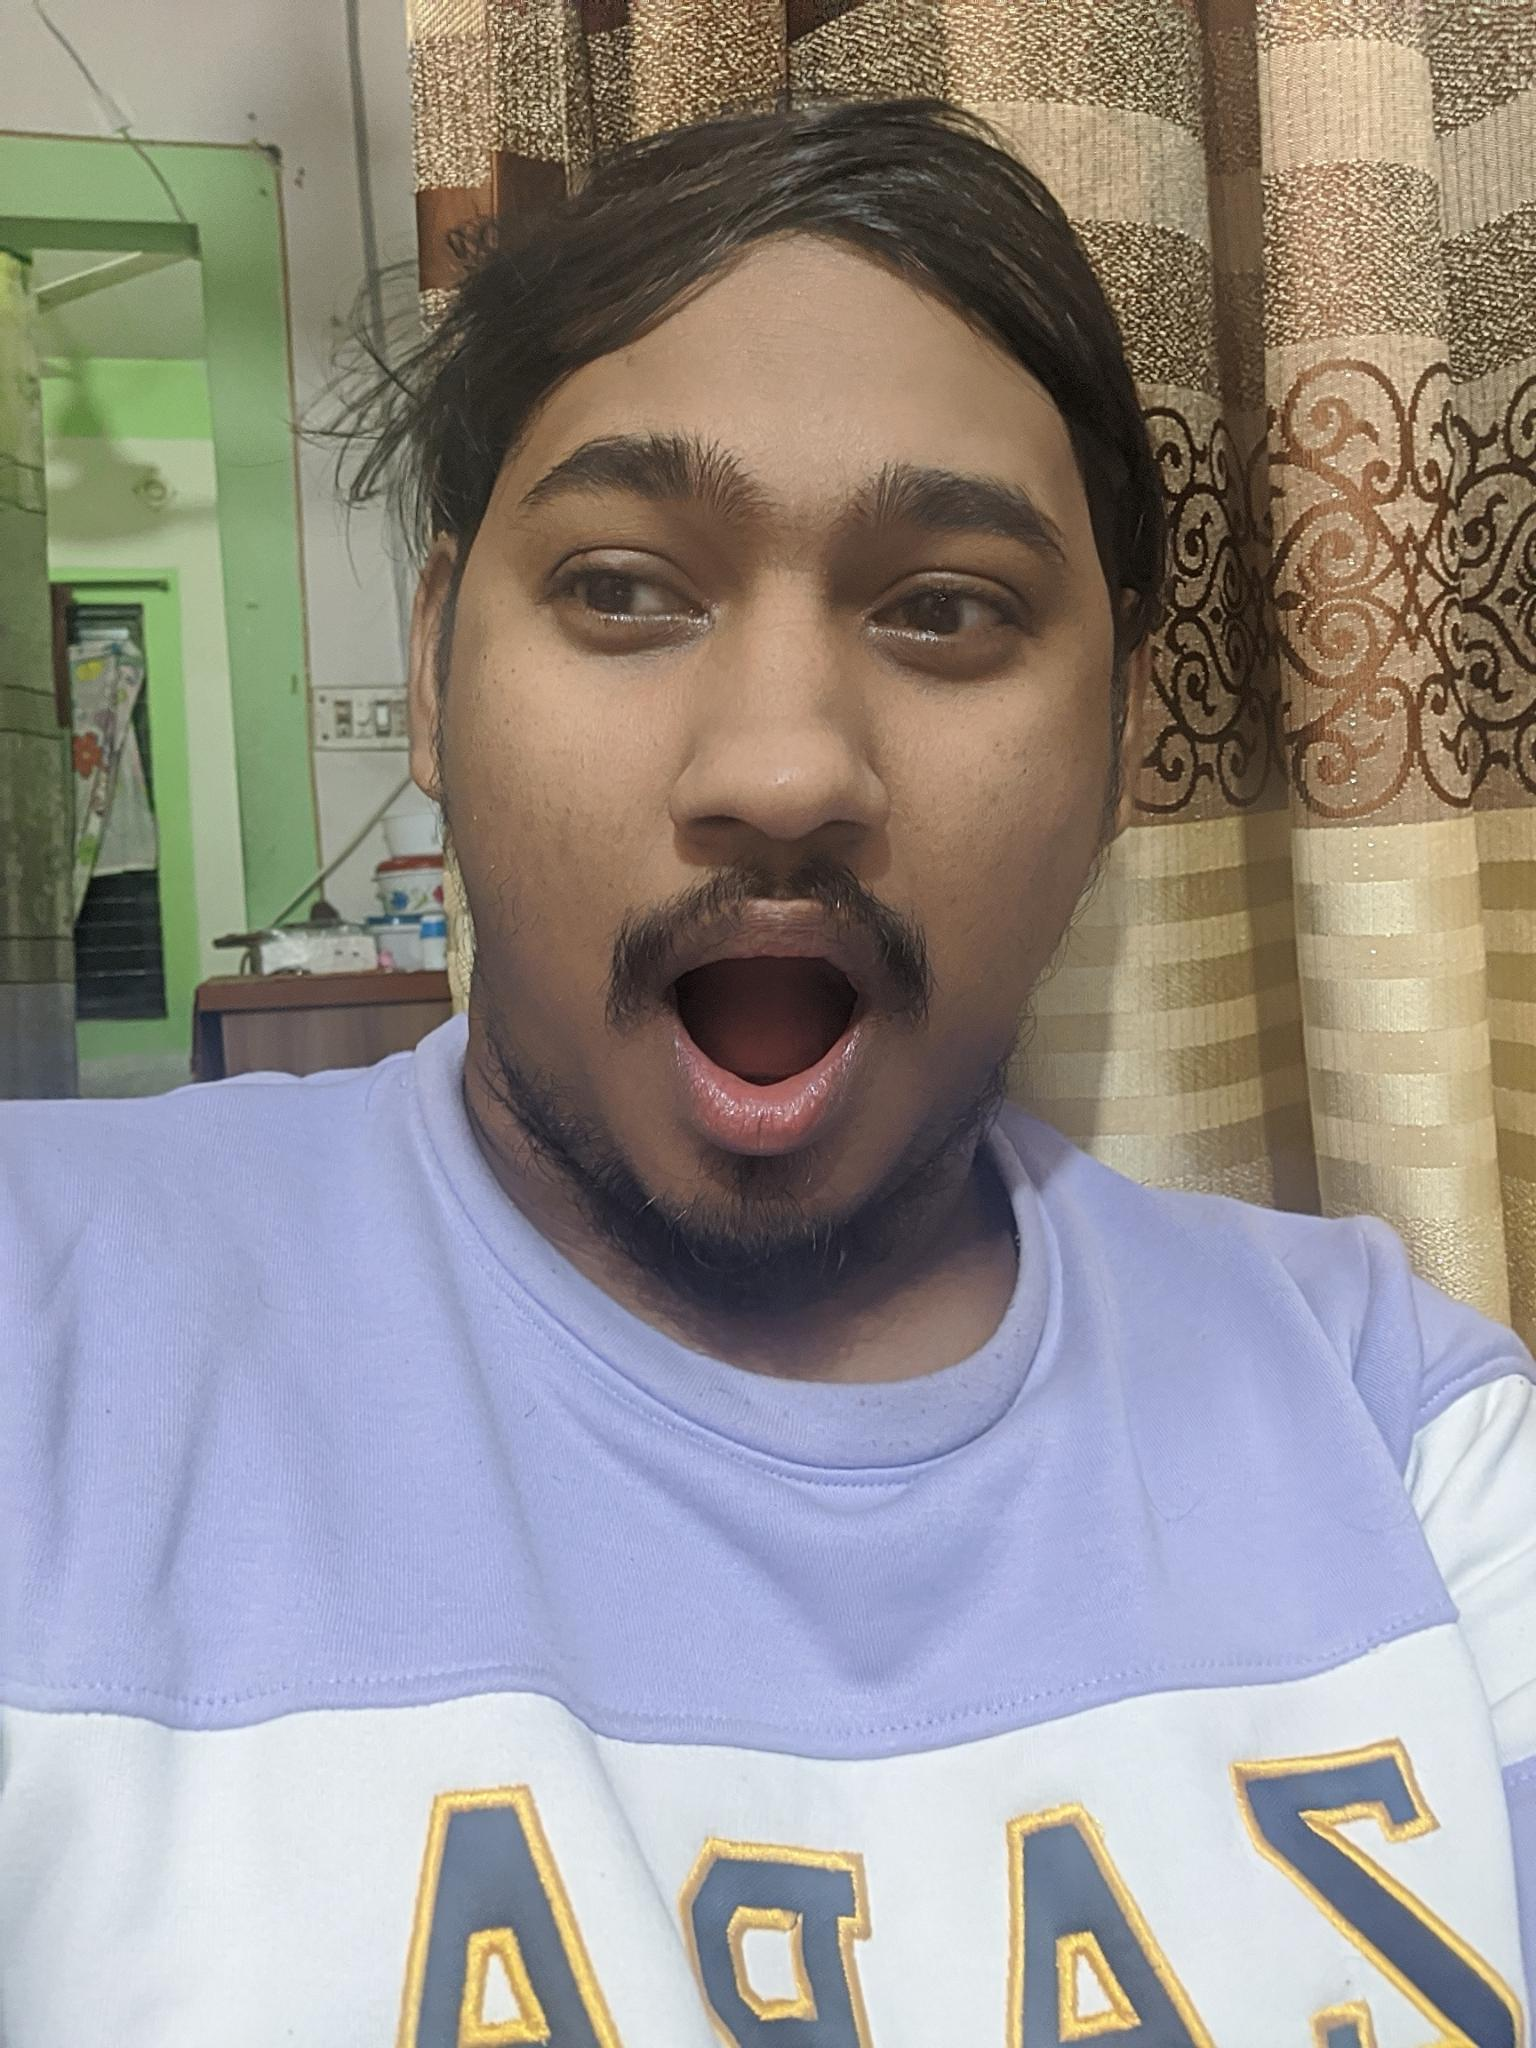Surprise: (428, 395, 1123, 1269)
